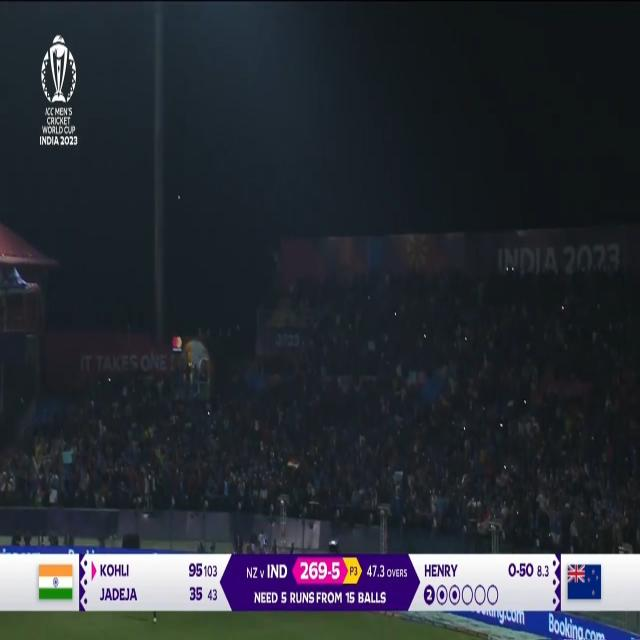ball: (173, 190, 185, 206)
